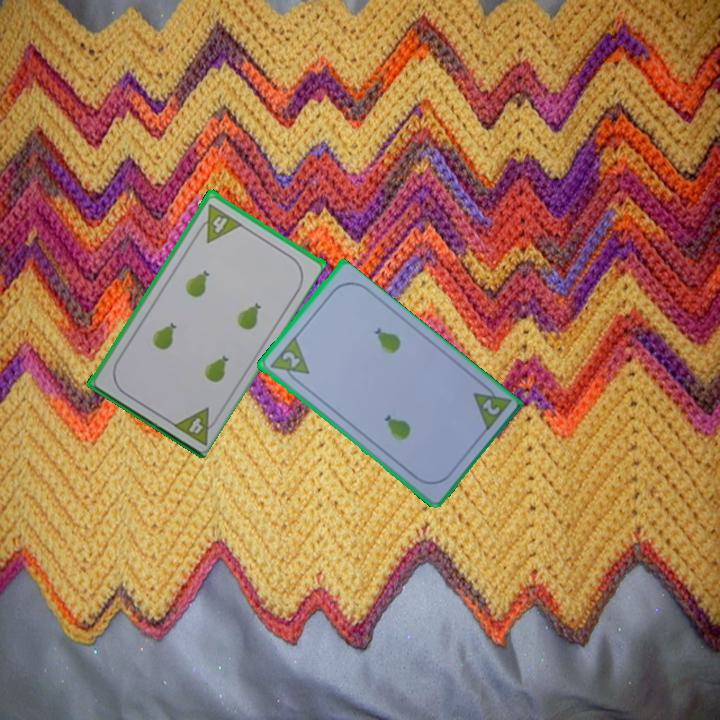2p: (278, 348, 303, 371), (478, 395, 503, 418)
4p: (168, 403, 223, 448), (192, 200, 244, 245)
